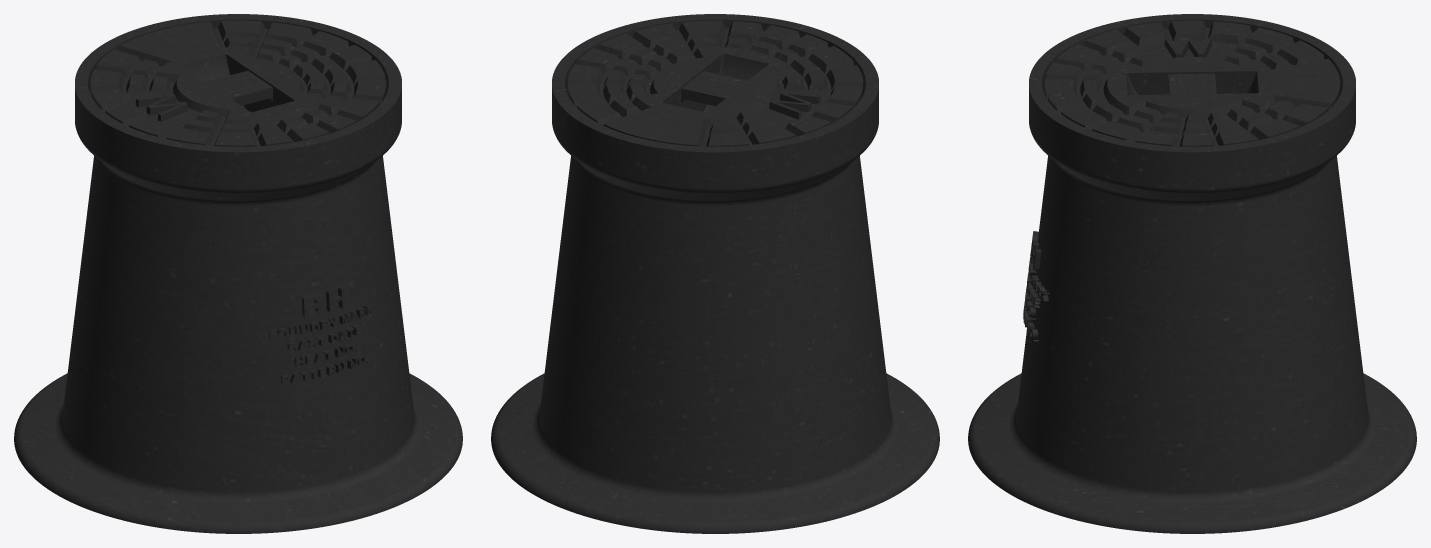
The picture shows the model from 3 angles, left to right: view 1: azimuth 30°, elevation 25°; view 2: azimuth 150°, elevation 25°; view 3: azimuth 270°, elevation 25°; orthographic projection.
Parts seen in each view (by area): view 1: NAUO4_high; view 2: NAUO4_high; view 3: NAUO4_high.
Part boxes in pixels (left/top/right/bottom): NAUO4_high: left=14, top=14, right=462, bottom=533; NAUO4_high: left=491, top=14, right=939, bottom=533; NAUO4_high: left=968, top=14, right=1416, bottom=533.
Bounding box in the file's own units: 0.24 × 0.21 × 0.24.
Materials: 1 (1 with a texture image).
